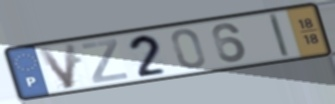0: (170, 27, 208, 71)
2: (124, 31, 172, 81)
6: (210, 22, 250, 64)
I: (266, 11, 292, 60)
V: (35, 41, 78, 91)
Z: (79, 37, 130, 85)
